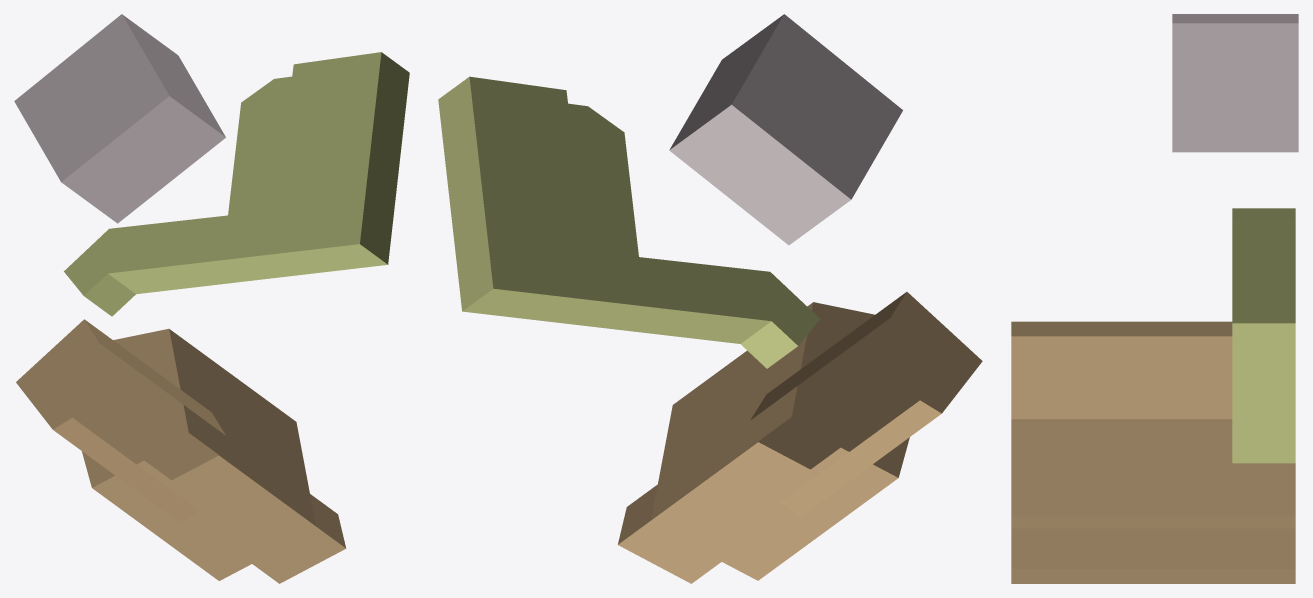
3 views of the same model, side by side, from view 1: azimuth 30°, elevation 25°; view 2: azimuth 150°, elevation 25°; view 3: azimuth 270°, elevation 25° (orthographic). The views are drawn at different scales.
Parts seen in each view (by area): view 1: 0_0_1_1_2_2_1_3_2; view 2: 0_0_1_1_2_2_1_3_2; view 3: 0_0_1_1_2_2_1_3_2.
Part boxes in pixels (box(x1,y1,x2,y2)): 0_0_1_1_2_2_1_3_2: box(14, 14, 409, 583); 0_0_1_1_2_2_1_3_2: box(438, 14, 982, 583); 0_0_1_1_2_2_1_3_2: box(1011, 14, 1298, 583).
Bounding box in the file's own units: 44.8 × 56.48 × 27.3.
